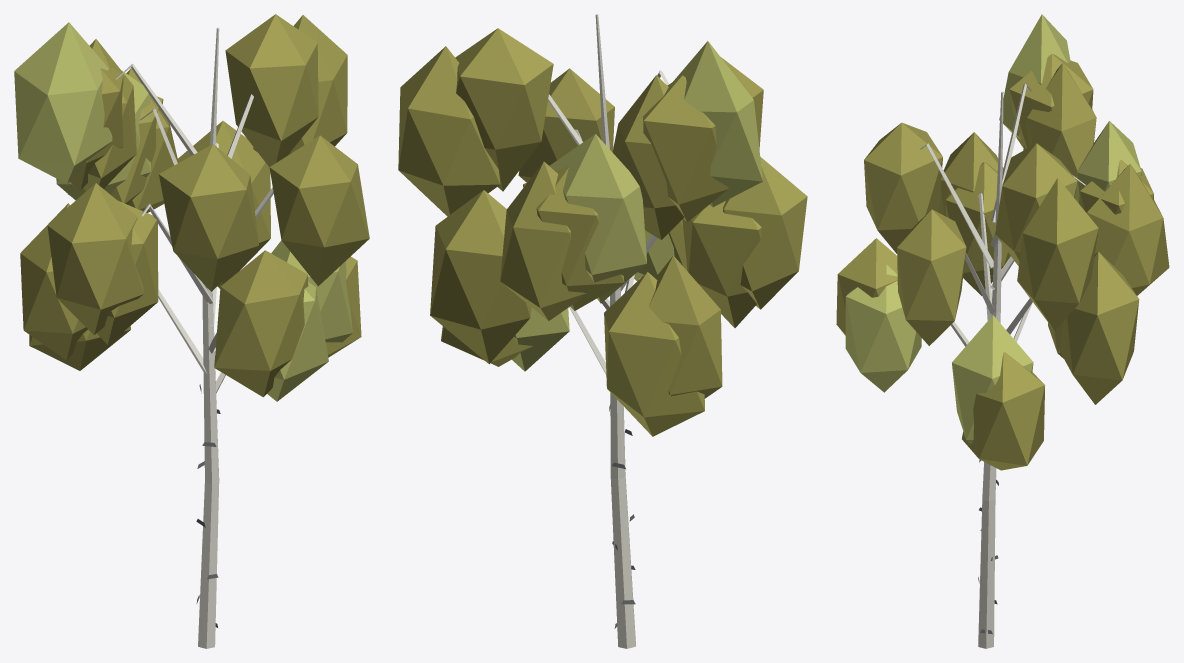
Rendered from birch_autumn_early_01.glb.
3 views of the same model, side by side, from view 1: azimuth 30°, elevation 25°; view 2: azimuth 150°, elevation 25°; view 3: azimuth 270°, elevation 25° (orthographic). The views are drawn at different scales.
Parts seen in each view (by area): view 1: Birch_autumn_early_01; view 2: Birch_autumn_early_01; view 3: Birch_autumn_early_01.
Boxes of the visible parts, x1,y1,x2,y2 form: Birch_autumn_early_01: (14,14,369,648); Birch_autumn_early_01: (398,14,807,648); Birch_autumn_early_01: (836,14,1169,648).
Size of the model in its own units: 9.55 by 16.92 by 8.77.
